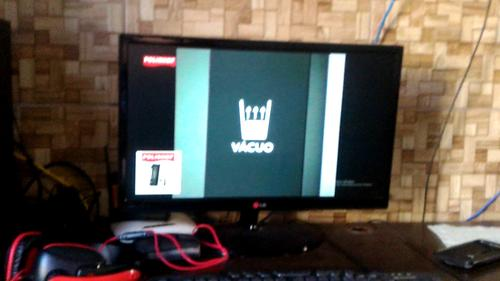Polishop #1: (134, 150, 183, 195)
